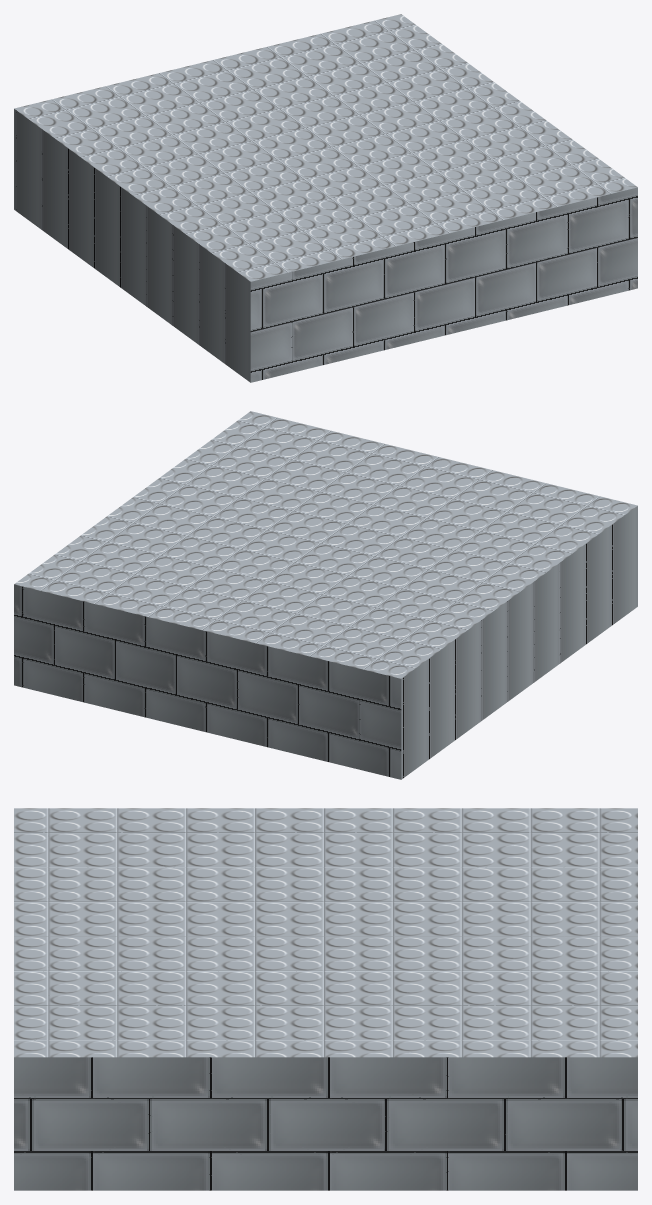
The model's file is shootingPlatform.obj.
The picture shows the model from 3 angles, top to bottom: view 1: azimuth 30°, elevation 25°; view 2: azimuth 150°, elevation 25°; view 3: azimuth 270°, elevation 25°; orthographic projection. The views are drawn at different scales.
Parts seen in each view (by area): view 1: Plane.005_Plane.021; view 2: Plane.005_Plane.021; view 3: Plane.005_Plane.021.
Boxes of the visible parts, <box> form: Plane.005_Plane.021: <box>14,14,637,382</box>; Plane.005_Plane.021: <box>14,411,637,779</box>; Plane.005_Plane.021: <box>14,808,637,1190</box>.
Size of the model in its own units: 1.73 by 0.4323 by 1.84.
2 materials, 2 textured.
